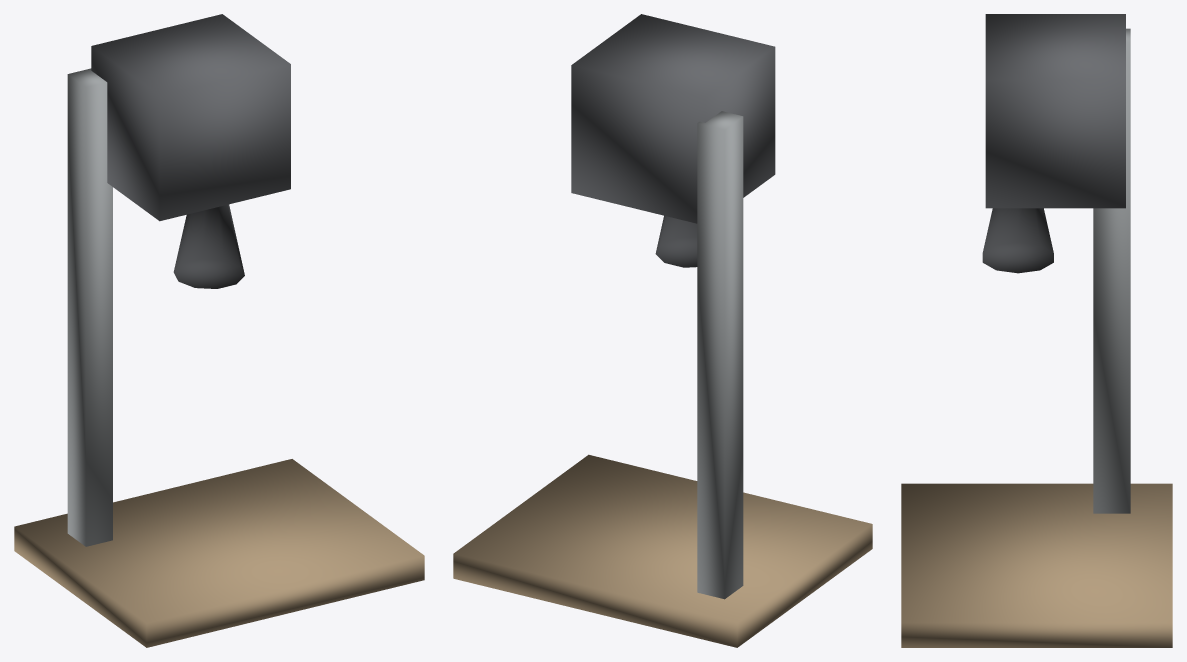
File: photo_enlarger__compact.glb
The picture shows the model from 3 angles, left to right: view 1: azimuth 30°, elevation 25°; view 2: azimuth 150°, elevation 25°; view 3: azimuth 270°, elevation 25°; orthographic projection. The views are drawn at different scales.
Parts seen in each view (by area): view 1: world; view 2: world; view 3: world.
Boxes of the visible parts, <box> form: world: <box>14,14,424,647</box>; world: <box>453,14,872,647</box>; world: <box>901,14,1172,647</box>.
Size of the model in its own units: 0.6048 by 1.06 by 0.4988.
